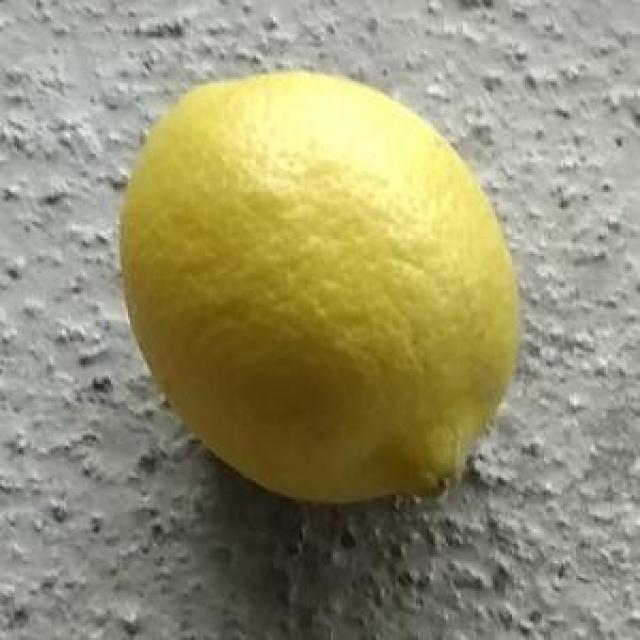lemon: (117, 66, 520, 506)
